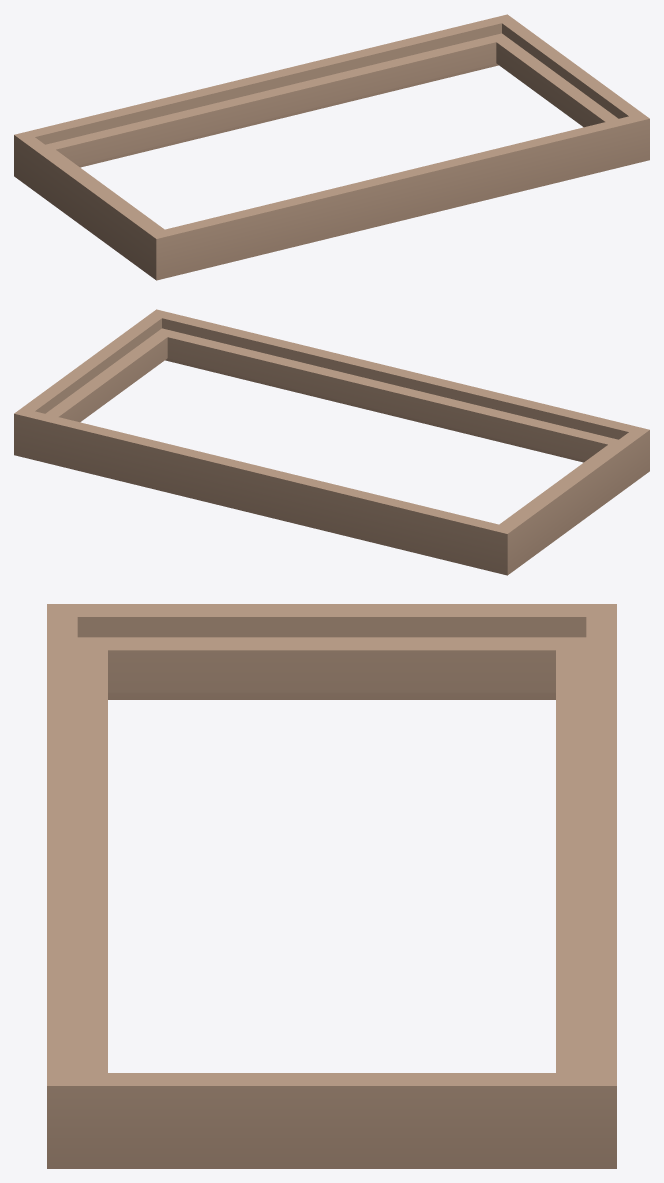
The model's file is roof-window-long.glb.
3 renders of one model, top to bottom at view 1: azimuth 30°, elevation 25°; view 2: azimuth 150°, elevation 25°; view 3: azimuth 270°, elevation 25°, orthographic. The views are drawn at different scales.
Visible parts, largest first — view 1: roof-window-long; view 2: roof-window-long; view 3: roof-window-long.
Part boxes in pixels (bbox=[...]): roof-window-long: bbox=[14, 14, 649, 280]; roof-window-long: bbox=[14, 309, 649, 575]; roof-window-long: bbox=[47, 604, 616, 1168].
Size of the model in its own units: 1.87 by 0.15 by 0.9333.
